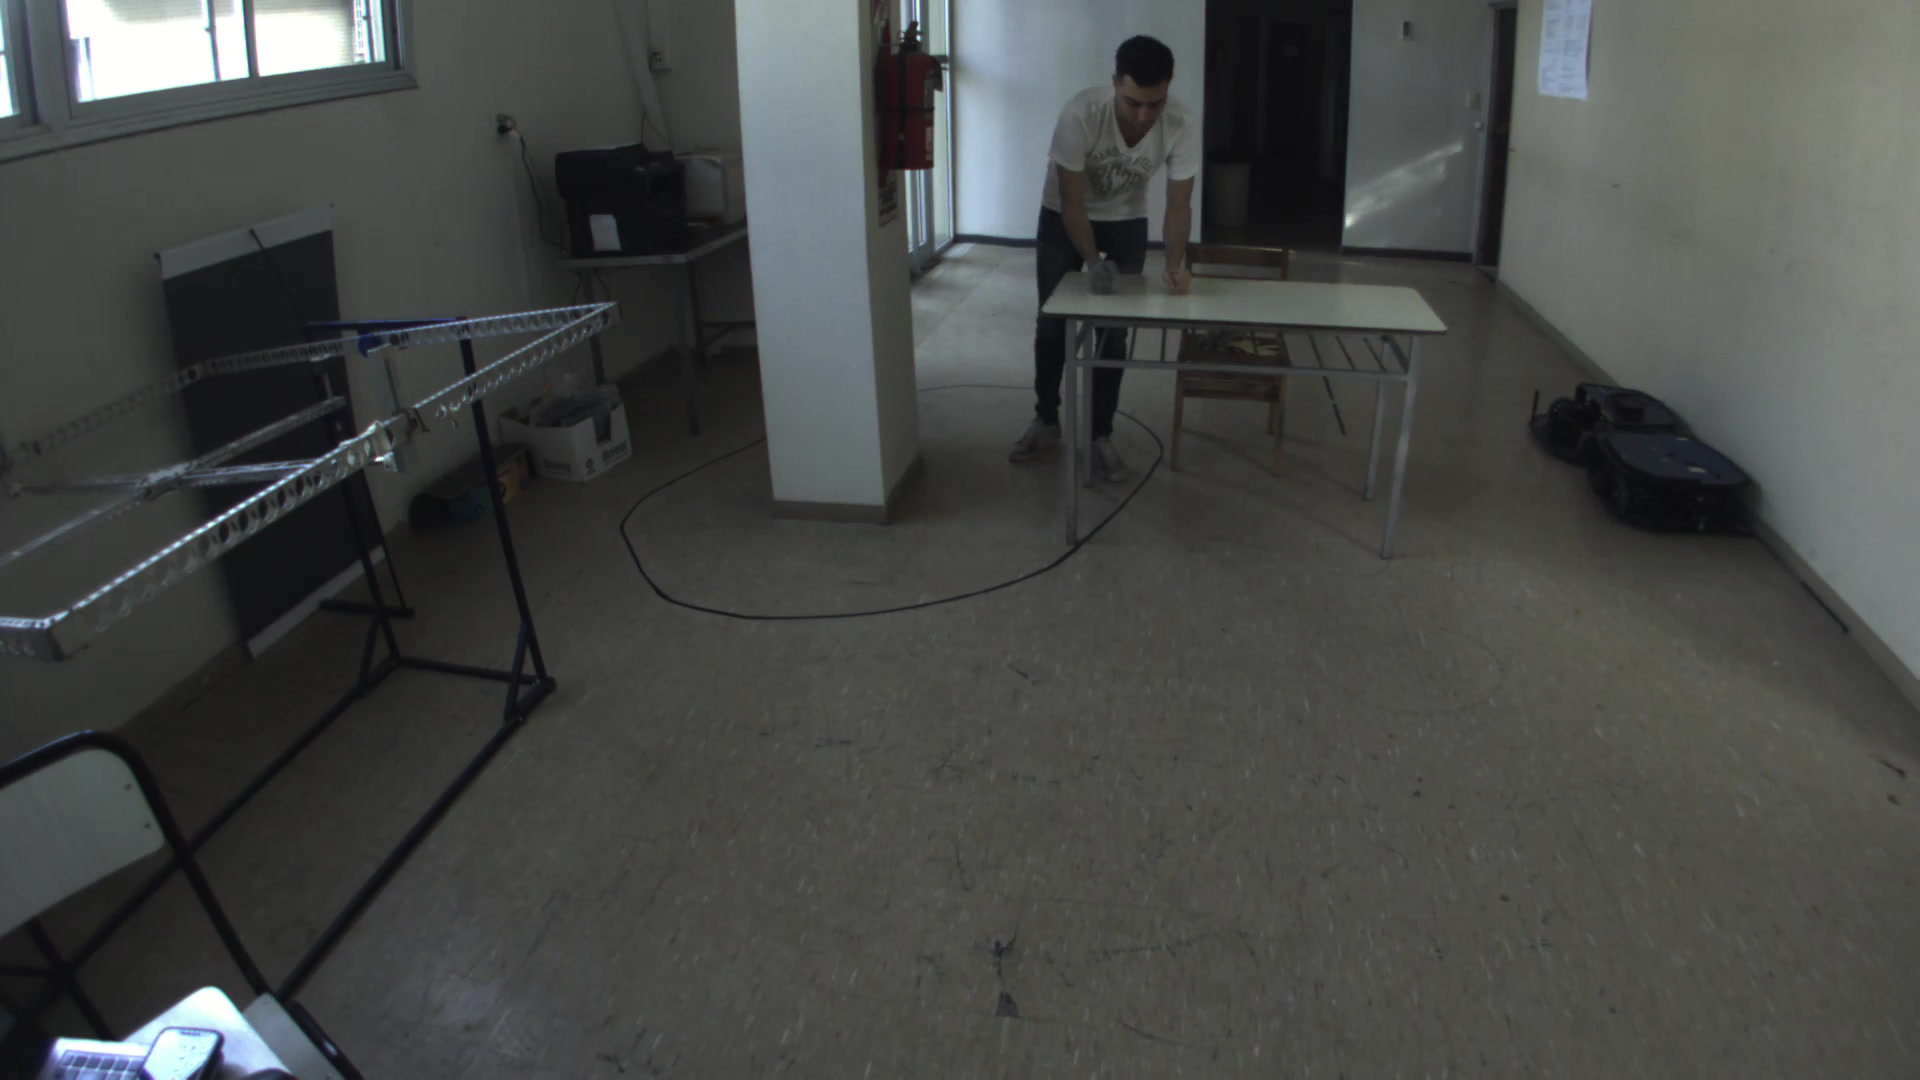hand: (1156, 243, 1207, 295), (1080, 256, 1116, 297)
